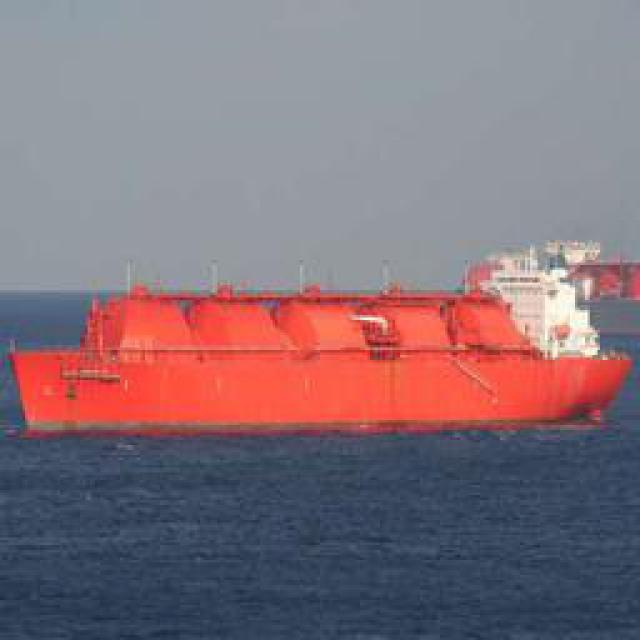Ship: (9, 269, 634, 432)
